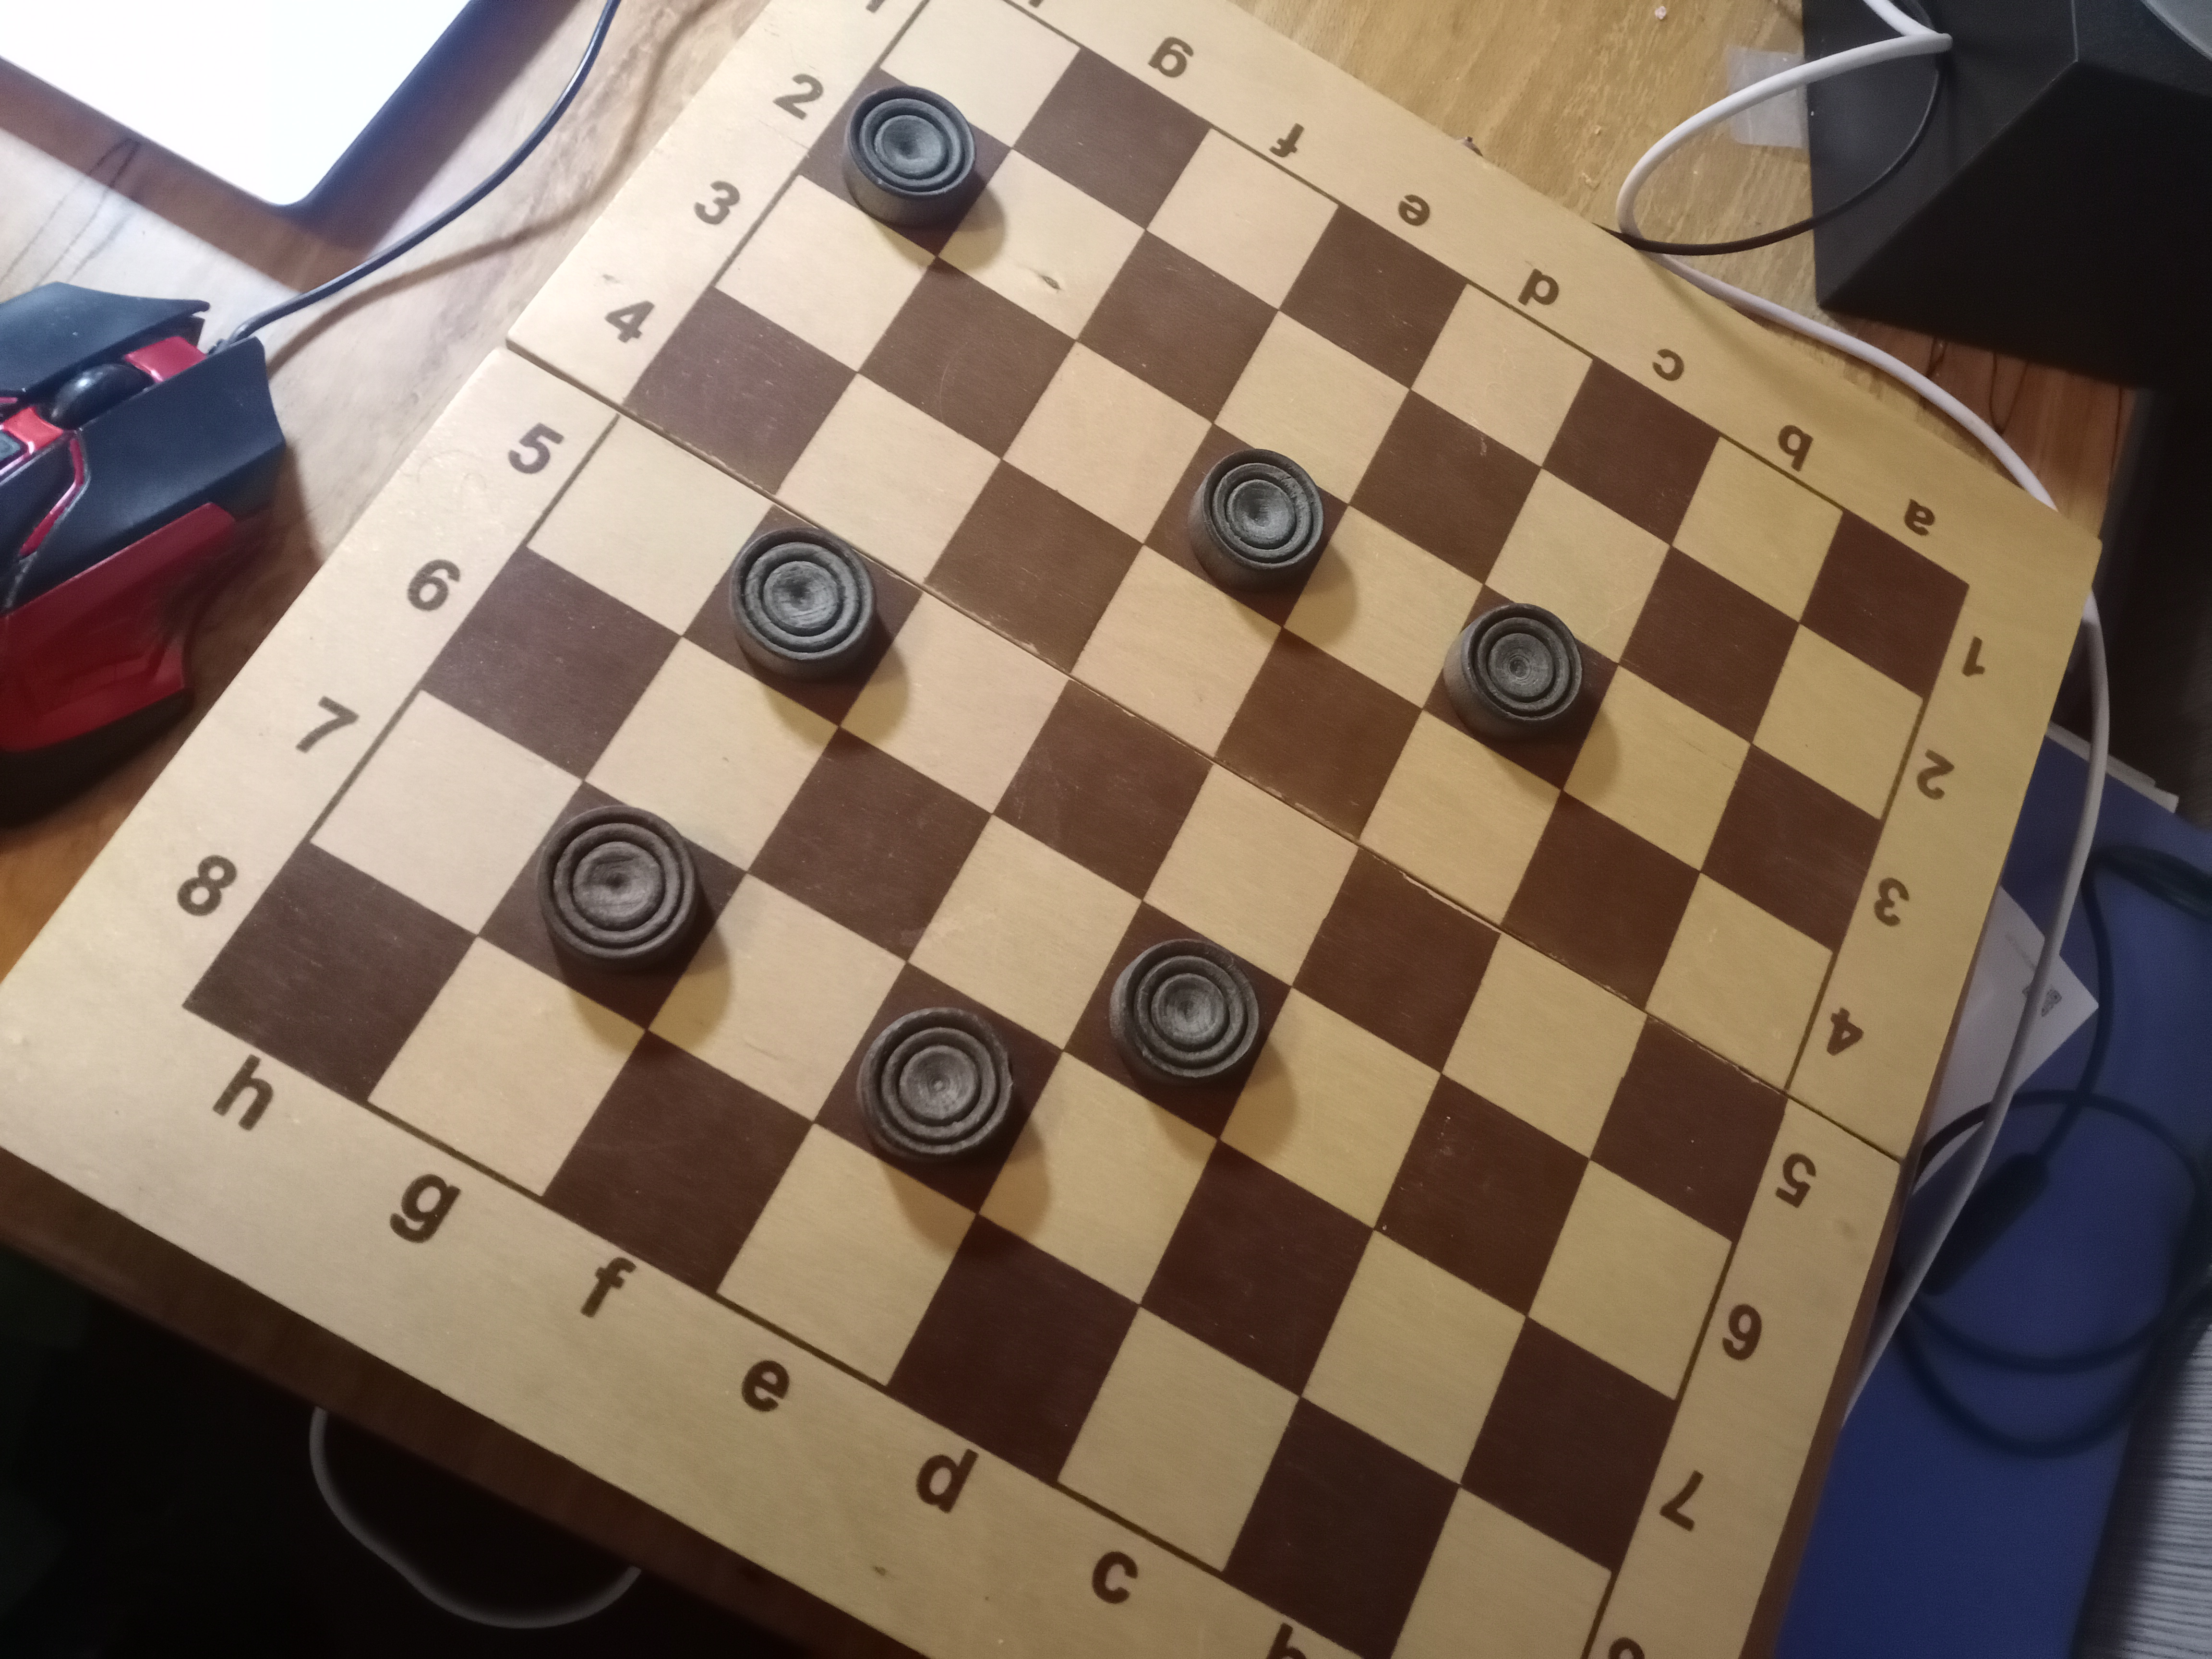Black_Draught: (481, 781, 749, 1030), (812, 960, 1064, 1215), (1066, 903, 1296, 1138), (683, 504, 923, 725), (1139, 420, 1346, 631), (1421, 582, 1620, 791), (799, 66, 1012, 258)
